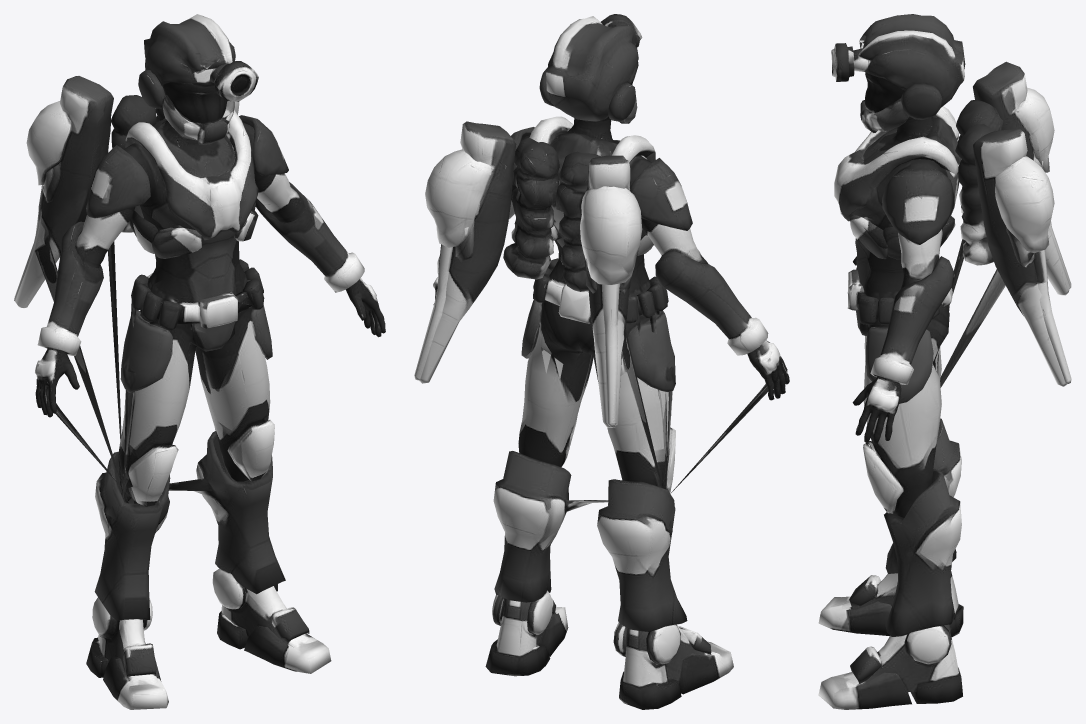
The model's file is kip_body.glb.
The picture shows the model from 3 angles, left to right: view 1: azimuth 30°, elevation 25°; view 2: azimuth 150°, elevation 25°; view 3: azimuth 270°, elevation 25°; orthographic projection.
Visible parts, largest first — view 1: char1; view 2: char1; view 3: char1.
Part boxes in pixels (left/top/right/bottom): char1: left=14, top=14, right=385, bottom=709; char1: left=414, top=14, right=789, bottom=709; char1: left=818, top=14, right=1071, bottom=709.
Bounding box in the file's own units: 1 × 1.8 × 0.6489.
Materials: 1 (1 with a texture image).
